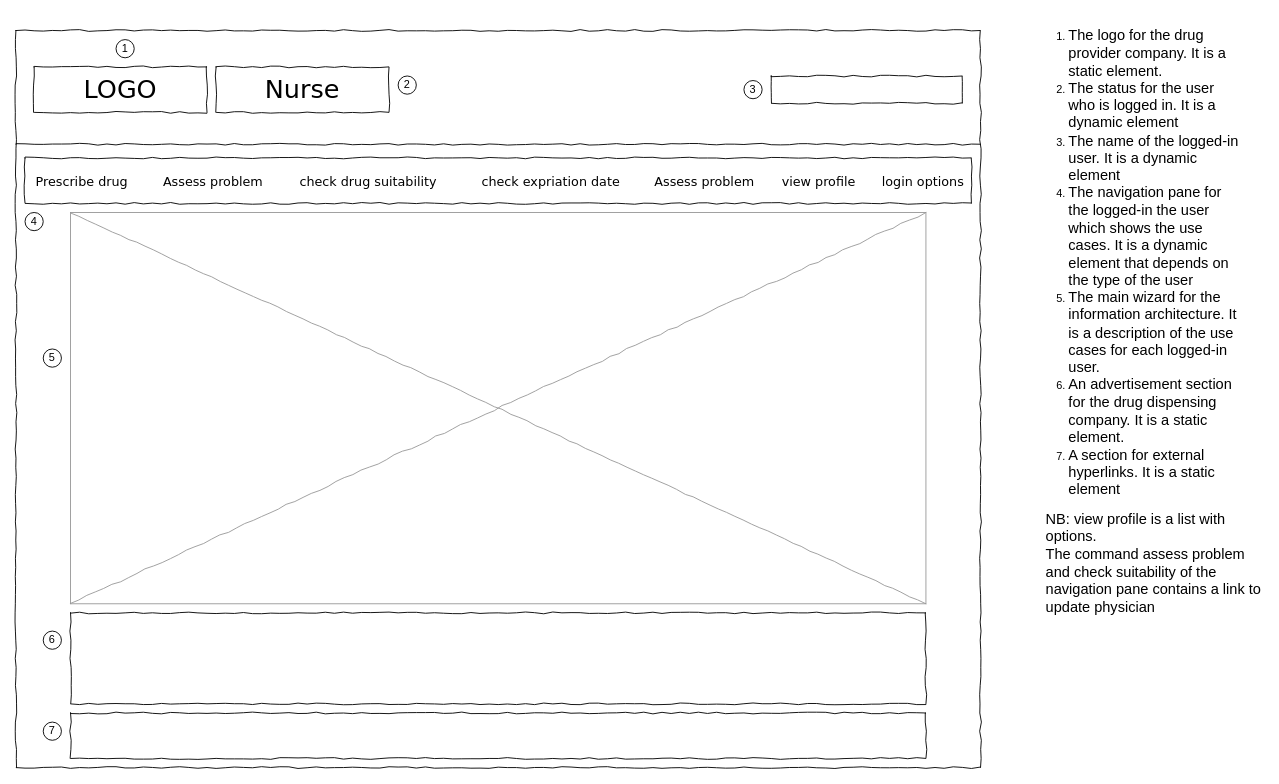
Image size: 1279x784. Some labels were removed from this diagram. The shapes that lost their labels are listed below. From the top down, each one's centre as x and y in pixels, then its label:
At point 866,89: "Miss Alice Ouma".
At point 498,658: "At drug consultancy, your health is our ultimate focus".
At point 498,735: "External Links".
